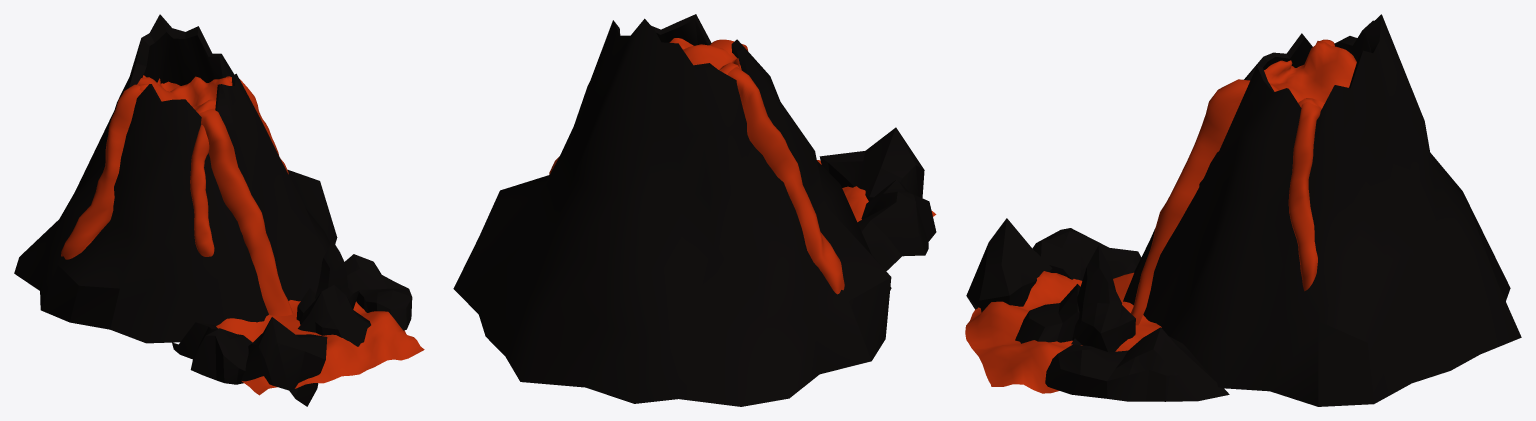
File: SM_Volcano.FBX
3 views of the same model, side by side, from view 1: azimuth 30°, elevation 25°; view 2: azimuth 150°, elevation 25°; view 3: azimuth 270°, elevation 25° (orthographic). The views are drawn at different scales.
Parts seen in each view (by area): view 1: SM_Volcano; view 2: SM_Volcano; view 3: SM_Volcano.
Boxes of the visible parts, box(x1,y1,x2,y2) form: SM_Volcano: box(14, 14, 424, 406); SM_Volcano: box(453, 14, 936, 406); SM_Volcano: box(965, 14, 1521, 406).
Bounding box in the file's own units: 61.28 × 54.15 × 79.96.
